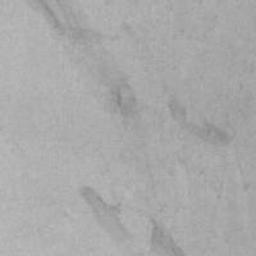Water spot: (22, 0, 192, 256), (166, 93, 234, 147)
